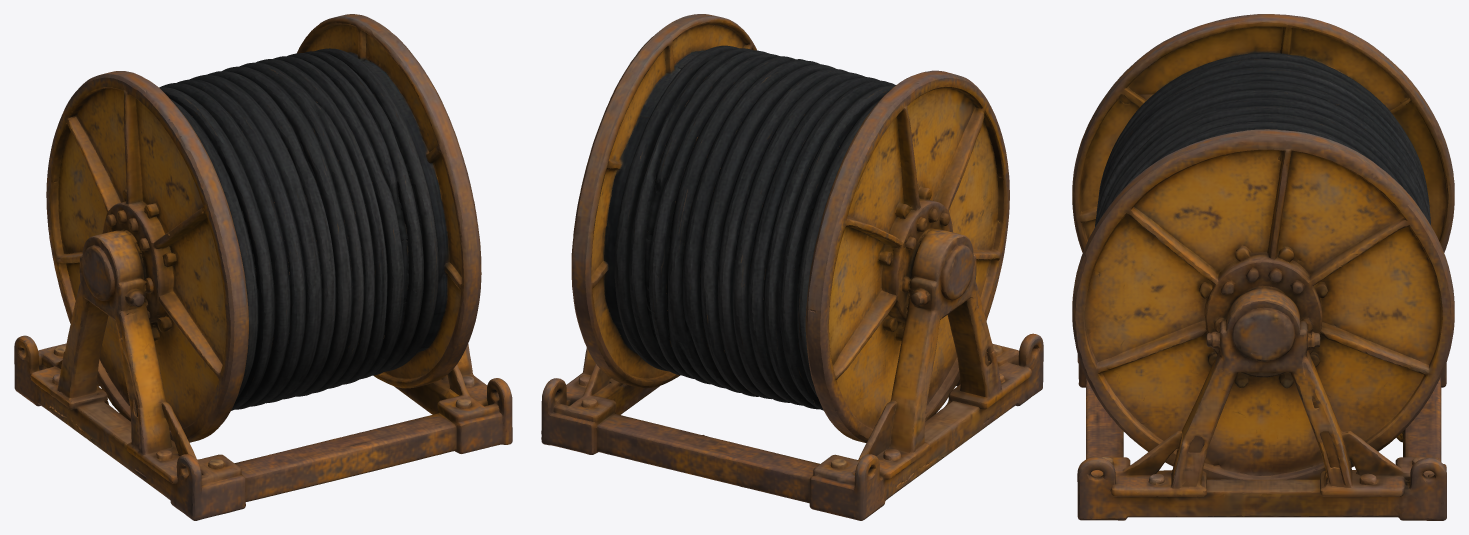
The model's file is cable_reel.glb.
3 renders of one model, left to right at view 1: azimuth 30°, elevation 25°; view 2: azimuth 150°, elevation 25°; view 3: azimuth 270°, elevation 25°, orthographic. The views are drawn at different scales.
Parts seen in each view (by area): view 1: world; view 2: world; view 3: world.
Part boxes in pixels (bbox=[...]): world: bbox=[14, 14, 512, 520]; world: bbox=[541, 14, 1043, 520]; world: bbox=[1072, 14, 1454, 520].
Size of the model in its own units: 1.2 by 1.22 by 1.15.
1 material, 1 textured.
